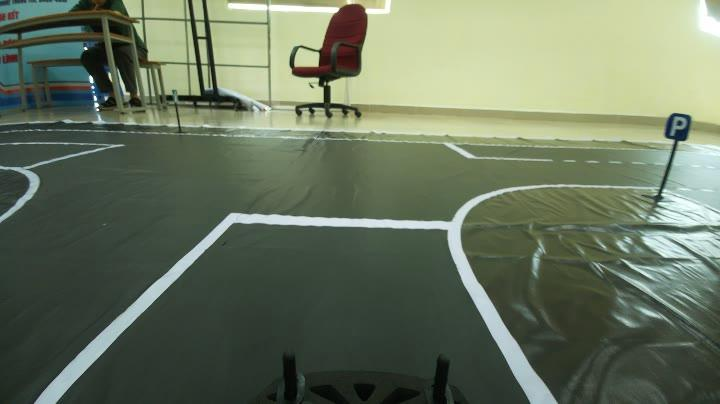parking: (660, 106, 694, 144)
